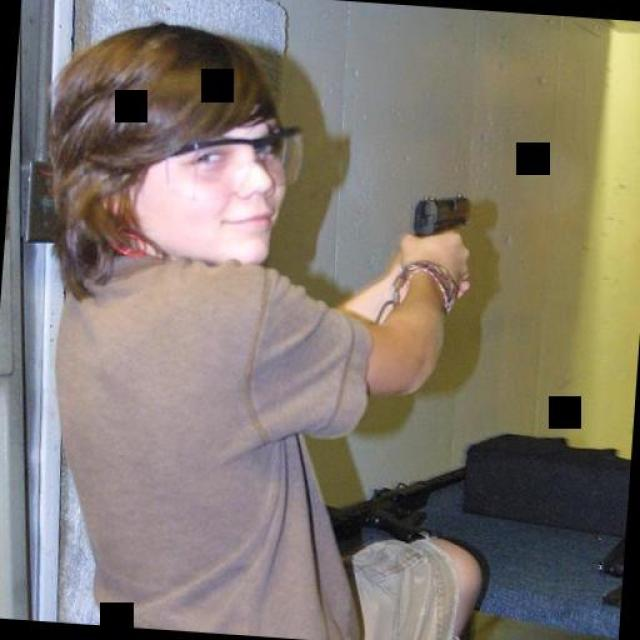gun: (410, 188, 471, 244)
